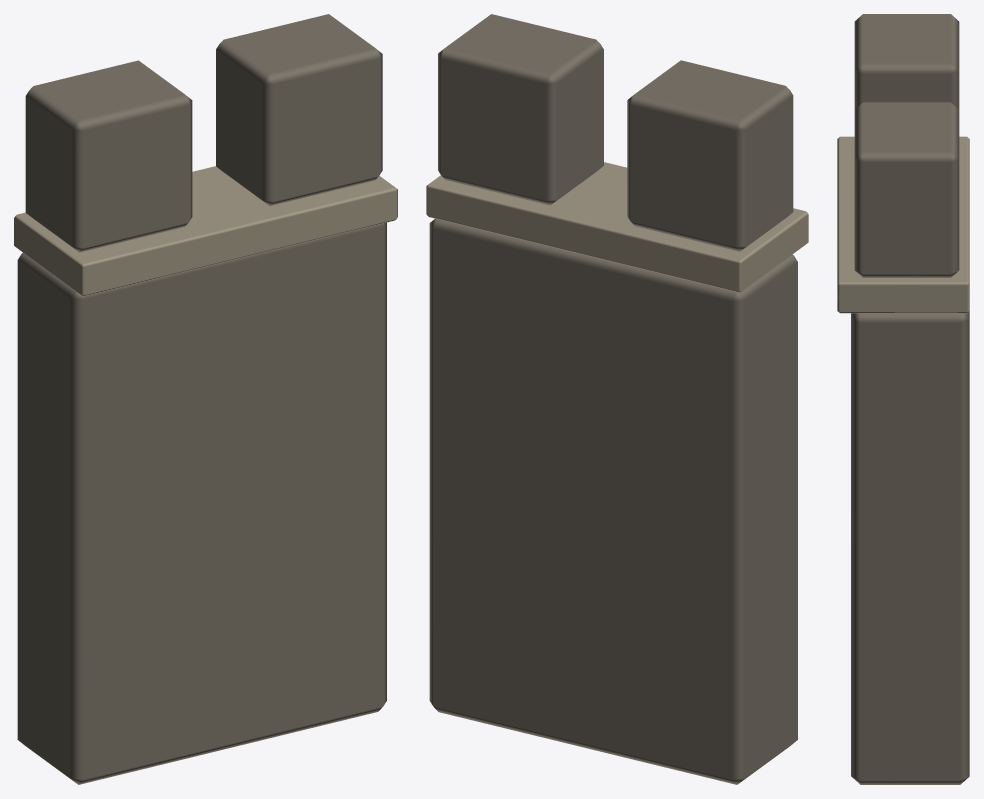
The model's file is stone-halls-wall-boundary.ccffea14.glb.
3 views of the same model, side by side, from view 1: azimuth 30°, elevation 25°; view 2: azimuth 150°, elevation 25°; view 3: azimuth 270°, elevation 25° (orthographic). The views are drawn at different scales.
Visible parts, largest first — view 1: body; view 2: body; view 3: body.
Part boxes in pixels (left/top/right/bottom): body: left=14, top=14, right=397, bottom=784; body: left=426, top=14, right=808, bottom=784; body: left=837, top=14, right=969, bottom=784.
Size of the model in its own units: 1 by 2 by 0.38.
